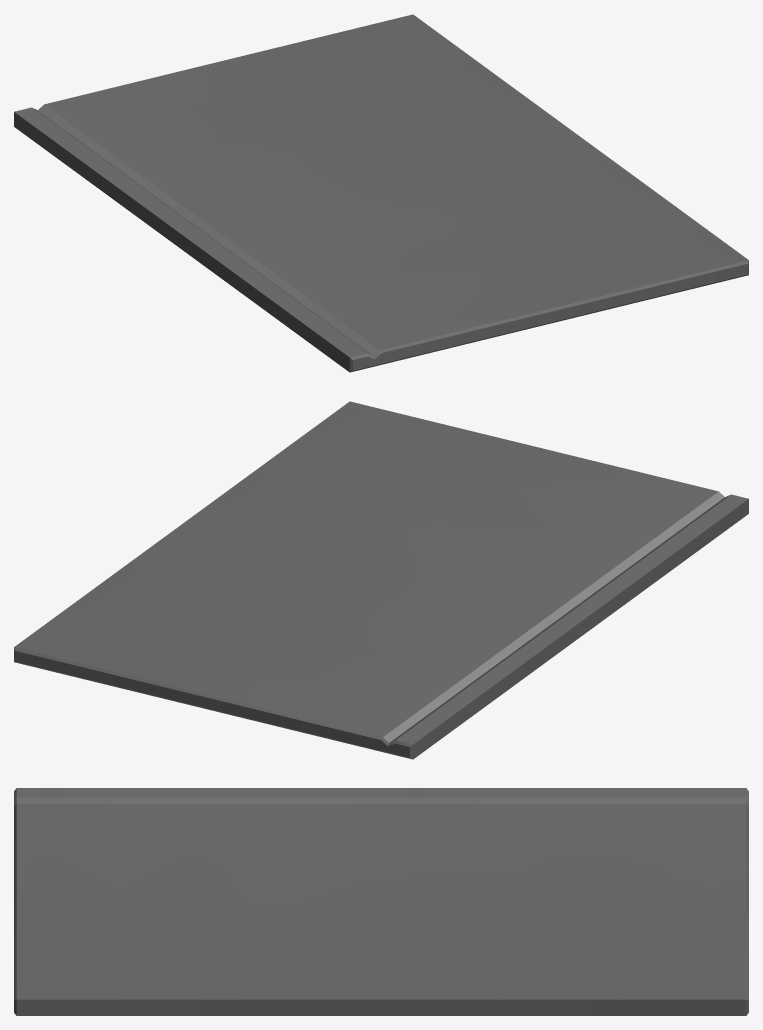
The model's file is hypercasual_prop018.FBX.
The picture shows the model from 3 angles, top to bottom: view 1: azimuth 30°, elevation 25°; view 2: azimuth 150°, elevation 25°; view 3: azimuth 270°, elevation 25°; orthographic projection. The views are drawn at different scales.
Visible parts, largest first — view 1: hypercasual_prop018; view 2: hypercasual_prop018; view 3: hypercasual_prop018.
Boxes of the visible parts, x1,y1,x2,y2 form: hypercasual_prop018: (14,14,748,372); hypercasual_prop018: (14,401,748,759); hypercasual_prop018: (14,788,748,1015).
Bounding box in the file's own units: 6.09 × 0.2188 × 8.93.
1 material, 1 textured.
